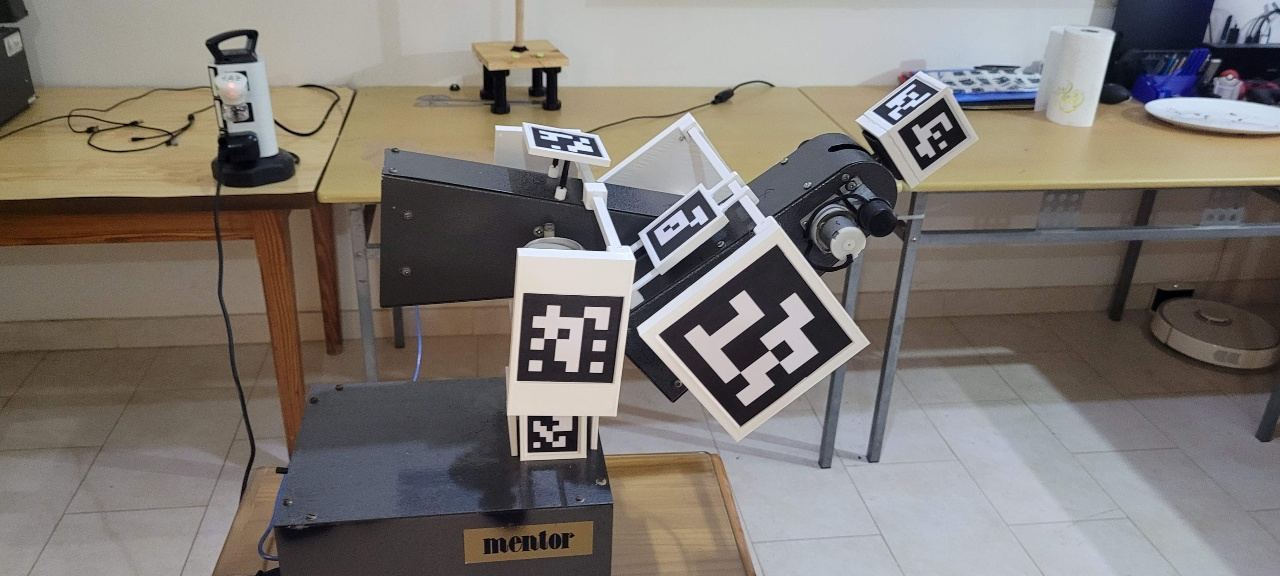Robot: (380, 70, 981, 462)
